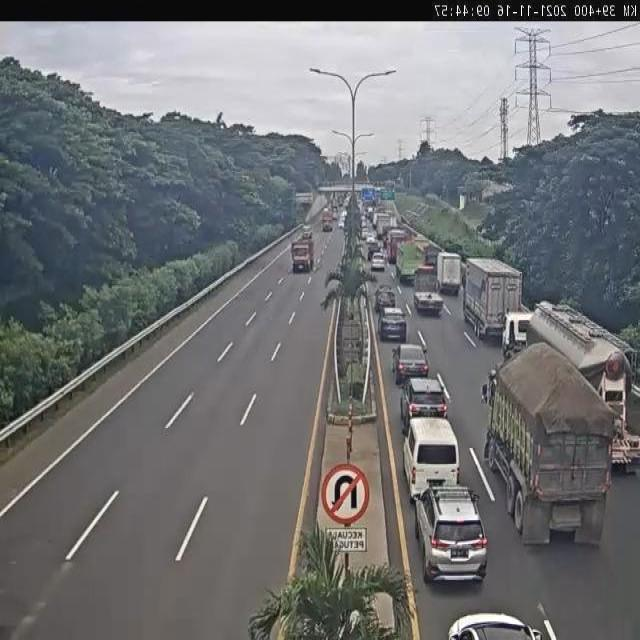Car: (415, 486, 488, 584), (446, 611, 550, 639), (399, 375, 449, 421), (392, 343, 429, 385), (377, 306, 407, 341), (371, 252, 385, 272)
Truck: (482, 340, 616, 551), (502, 297, 630, 445), (463, 256, 523, 338), (412, 263, 444, 316), (436, 253, 462, 296), (290, 234, 315, 274)
Van: (402, 417, 460, 501)
